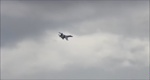maybay_muctieu: (56, 31, 73, 43)
